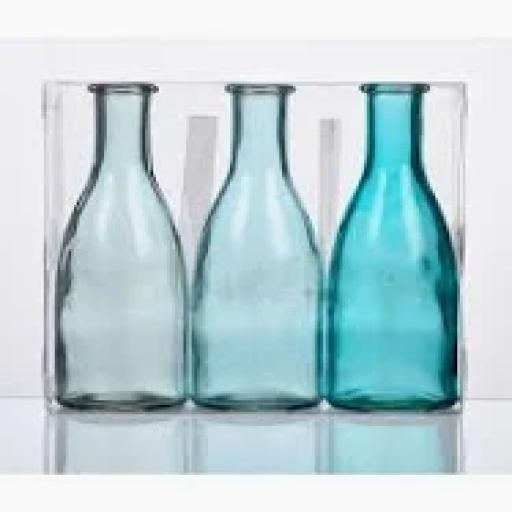blue-bottle: (329, 84, 457, 410), (192, 84, 320, 407), (57, 84, 183, 407)
